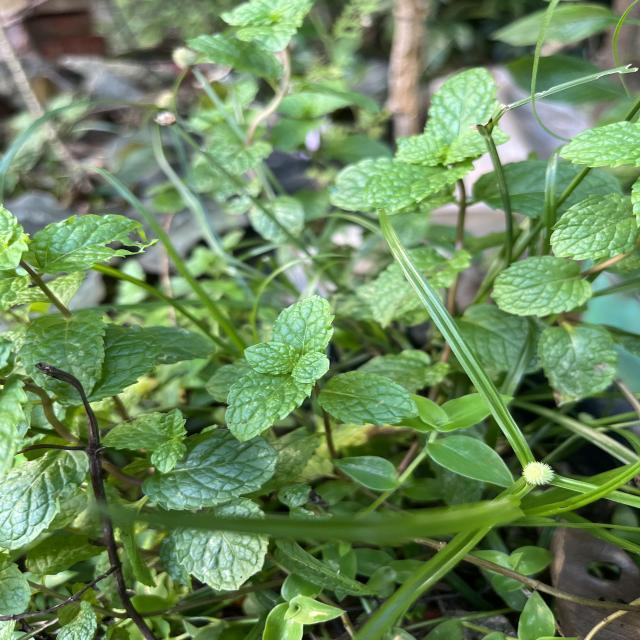Mentha spicata: (224, 369, 316, 443), (317, 369, 420, 427), (270, 294, 336, 352), (243, 342, 298, 376), (290, 352, 330, 384)
